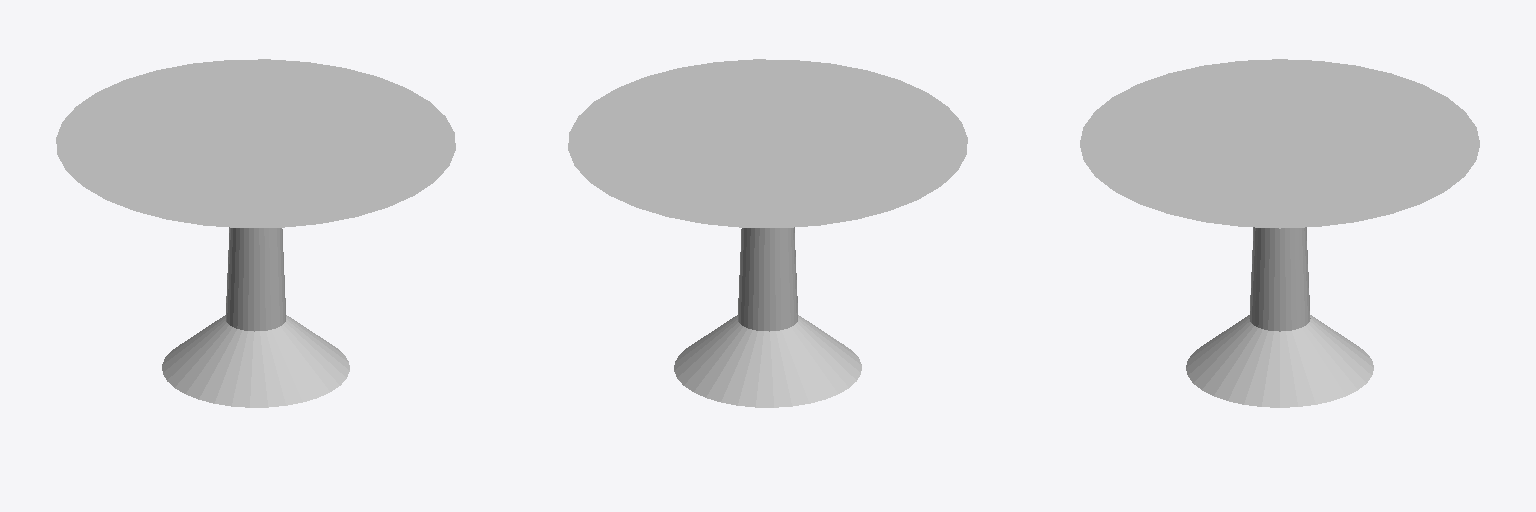
Rendered from Kleine Tafel.obj.
3 views of the same model, side by side, from view 1: azimuth 30°, elevation 25°; view 2: azimuth 150°, elevation 25°; view 3: azimuth 270°, elevation 25° (orthographic).
Visible parts, largest first — view 1: Cylinder.001_Cylinder.003; view 2: Cylinder.001_Cylinder.003; view 3: Cylinder.001_Cylinder.003.
Part boxes in pixels (x1,y1,x2,y2): Cylinder.001_Cylinder.003: (56, 59, 455, 407); Cylinder.001_Cylinder.003: (568, 59, 967, 407); Cylinder.001_Cylinder.003: (1080, 59, 1479, 407).
Bounding box in the file's own units: 1.48 × 0.9139 × 1.48.